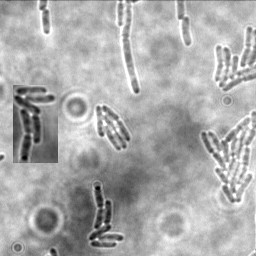Dividing: (123, 1, 142, 95), (41, 8, 52, 35)
Microcolony: (200, 109, 255, 205), (13, 85, 58, 163), (212, 25, 255, 94), (89, 184, 126, 248), (96, 103, 132, 150), (182, 16, 193, 48)
